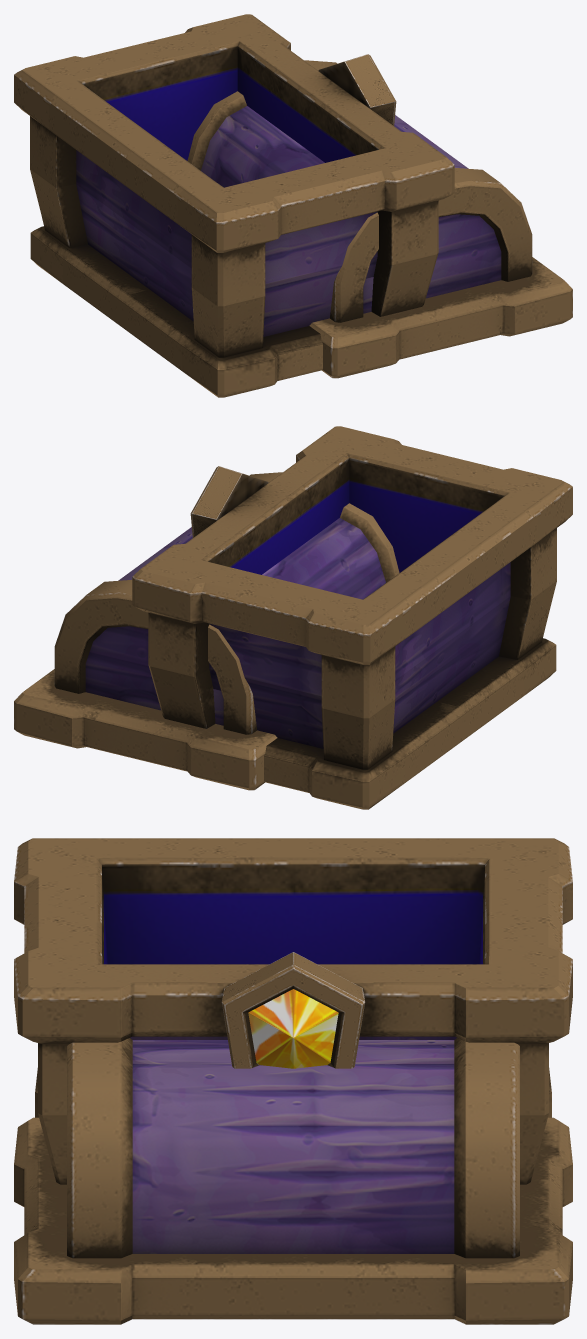
File: _treasure_chest_textured.glb
3 views of the same model, one above another, from view 1: azimuth 30°, elevation 25°; view 2: azimuth 150°, elevation 25°; view 3: azimuth 270°, elevation 25° (orthographic). The views are drawn at different scales.
Parts seen in each view (by area): view 1: Cylinder, chest_lid; view 2: Cylinder, chest_lid; view 3: chest_lid, Cylinder.
Boxes of the visible parts, bbox=[...] form: Cylinder: bbox=[14, 14, 454, 397]; chest_lid: bbox=[187, 60, 572, 378]; Cylinder: bbox=[132, 426, 572, 809]; chest_lid: bbox=[14, 472, 399, 790]; chest_lid: bbox=[14, 1038, 572, 1324]; Cylinder: bbox=[14, 838, 572, 1184].
Size of the model in its own units: 3.14 by 1.84 by 3.15.
1 material, 1 textured.
